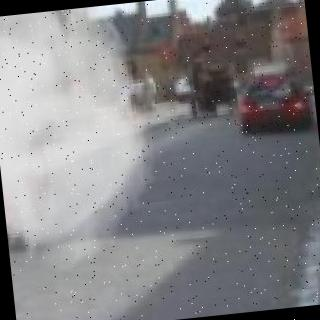smoke: (0, 1, 161, 258)
